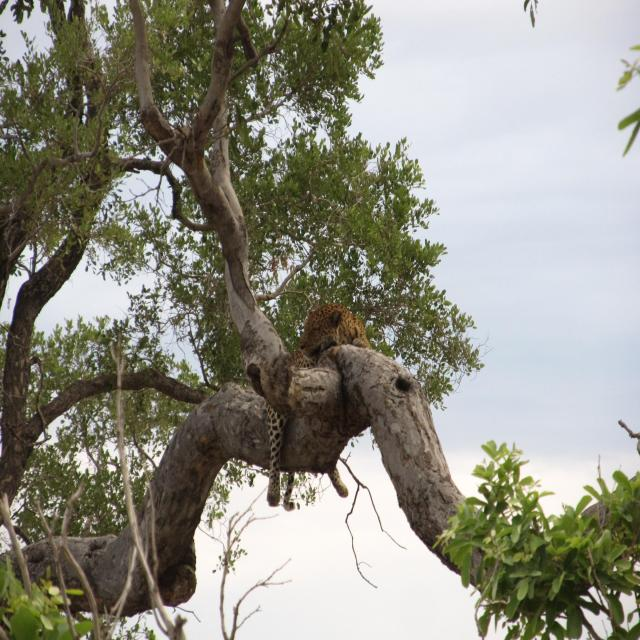Leopard: (221, 278, 399, 530)
